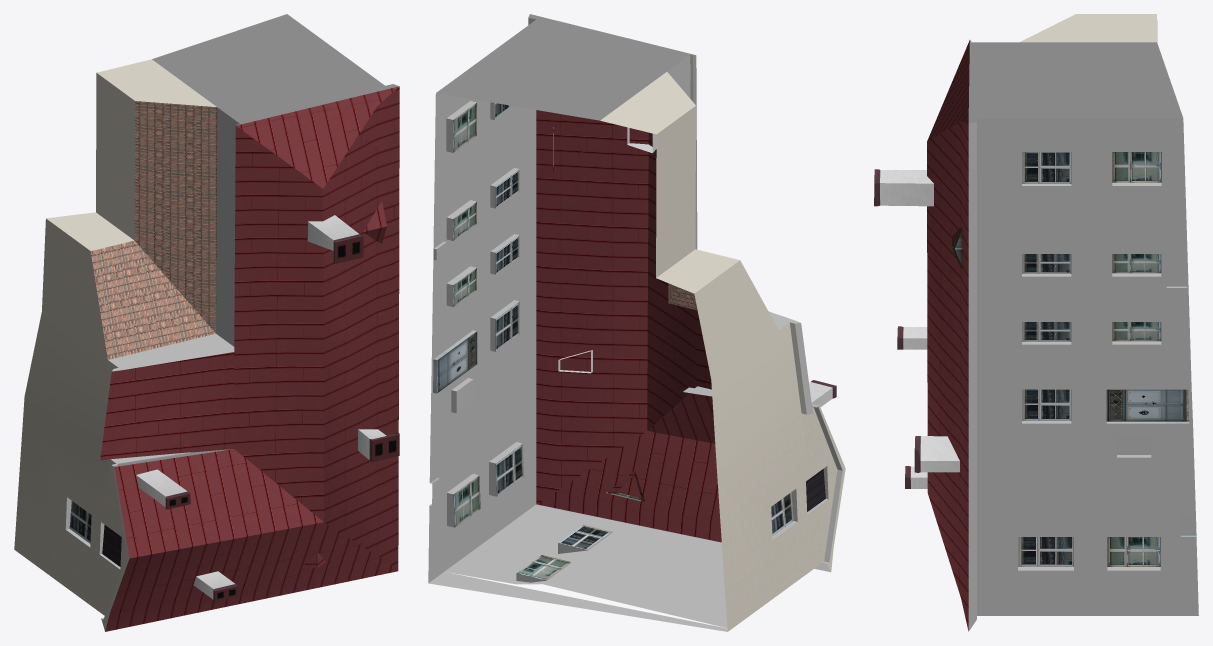
The model's file is Piiskopi_3-origo.obj.
3 renders of one model, left to right at view 1: azimuth 30°, elevation 25°; view 2: azimuth 150°, elevation 25°; view 3: azimuth 270°, elevation 25°, orthographic. The views are drawn at different scales.
Parts seen in each view (by area): view 1: Piiskopi_3; view 2: Piiskopi_3; view 3: Piiskopi_3.
Boxes of the visible parts, x1,y1,x2,y2 form: Piiskopi_3: (14,14,399,631); Piiskopi_3: (428,14,845,631); Piiskopi_3: (874,14,1198,631).
Size of the model in its own units: 14.31 by 22.5 by 13.01.
